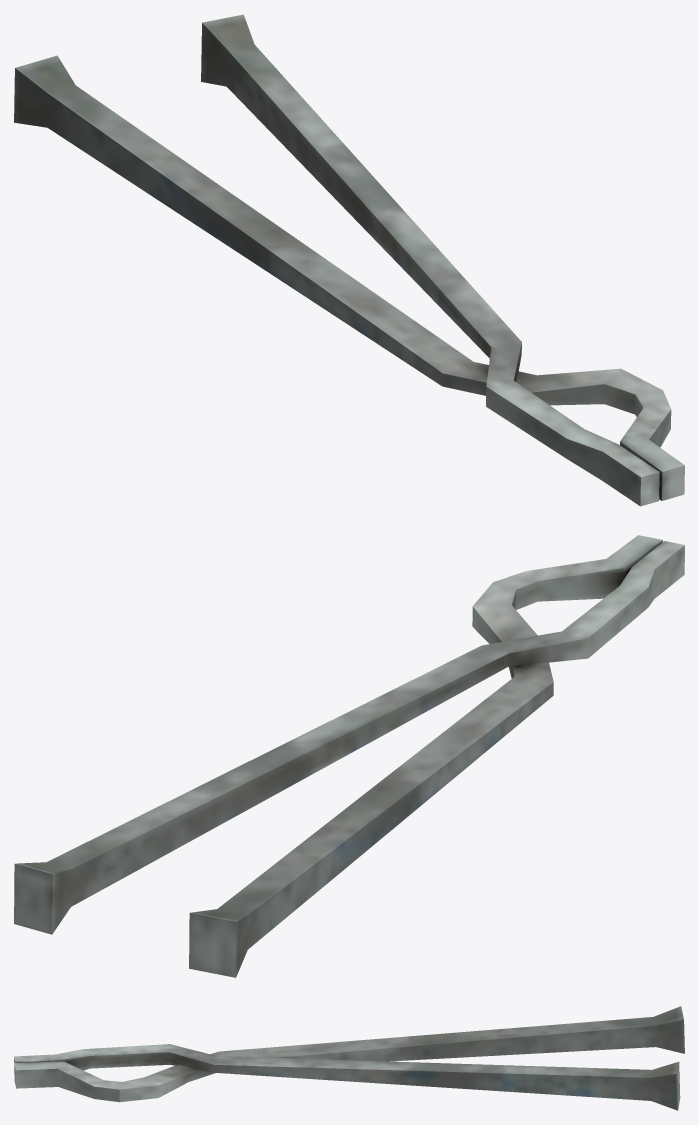
The model's file is Tong.FBX.
The picture shows the model from 3 angles, top to bottom: view 1: azimuth 30°, elevation 25°; view 2: azimuth 150°, elevation 25°; view 3: azimuth 270°, elevation 25°; orthographic projection. The views are drawn at different scales.
Visible parts, largest first — view 1: Tong; view 2: Tong; view 3: Tong.
Part boxes in pixels (<box>): Tong: <box>14,14,684,506</box>; Tong: <box>14,535,684,977</box>; Tong: <box>14,1006,684,1110</box>.
Bounding box in the file's own units: 10.99 × 3.19 × 45.59.
